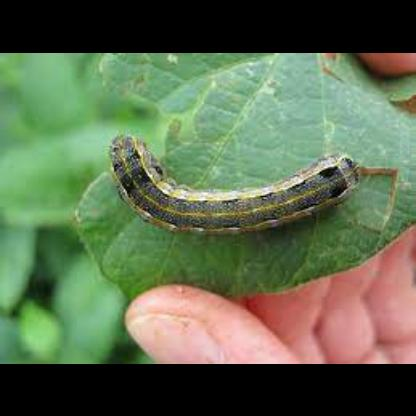agujero: (338, 152, 408, 236)
oruga: (101, 124, 364, 232)
